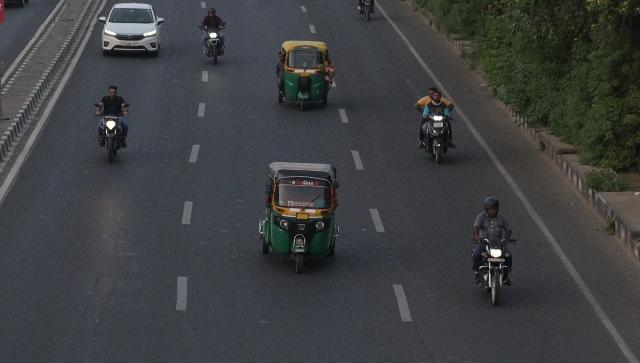With Helmet: (484, 195, 502, 218), (207, 6, 217, 20)
Without Helmet: (433, 91, 443, 105), (109, 86, 118, 100), (427, 88, 435, 101)
